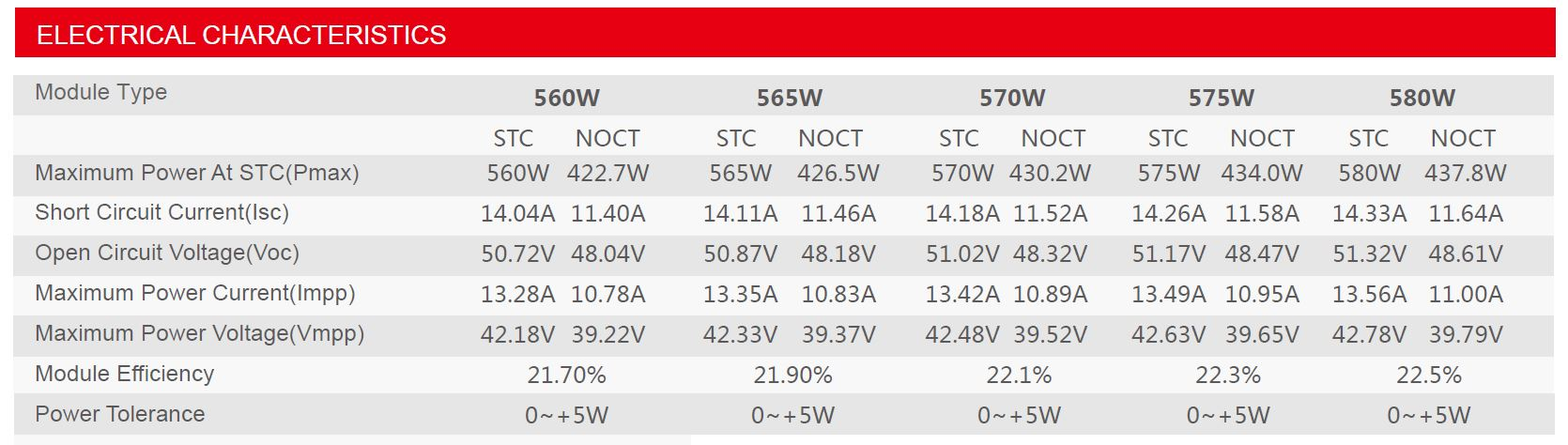table: (6, 67, 1562, 441)
table column: (15, 73, 453, 432), (1421, 68, 1540, 434), (673, 69, 789, 430), (451, 69, 562, 432), (791, 74, 903, 430), (1212, 74, 1322, 429), (565, 69, 673, 430), (1108, 71, 1215, 431), (1006, 71, 1109, 430), (905, 72, 1005, 430), (1323, 69, 1419, 431)
table column header: (11, 72, 1543, 116), (11, 119, 1540, 158)
table name: (8, 4, 500, 60)
table row: (12, 71, 1549, 116), (12, 353, 1550, 397), (15, 315, 1557, 358), (8, 118, 1553, 159), (8, 158, 1557, 197), (15, 276, 1559, 315), (13, 236, 1555, 275), (9, 393, 1547, 431), (13, 199, 1551, 235)
table row header: (11, 73, 450, 439)
table spanning cell: (675, 71, 905, 118), (451, 72, 675, 119), (1324, 71, 1541, 116), (1108, 391, 1328, 435), (1109, 75, 1324, 119), (902, 74, 1111, 118), (1324, 391, 1543, 432), (673, 394, 907, 432), (449, 391, 675, 429), (673, 356, 905, 393), (452, 357, 675, 395), (905, 392, 1111, 432), (1109, 356, 1325, 394), (1325, 357, 1541, 393), (903, 358, 1110, 392)
